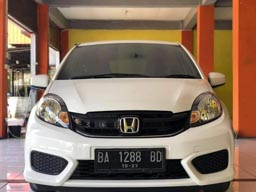plat: (94, 150, 164, 164)
